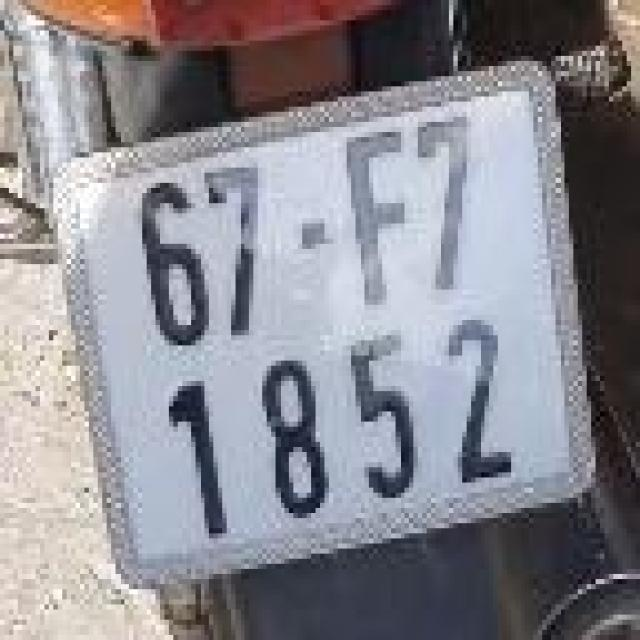1: (156, 371, 236, 543)
2: (442, 315, 522, 488)
5: (344, 330, 424, 508)
6: (131, 172, 211, 350)
7: (413, 109, 480, 297), (207, 160, 269, 343)
8: (251, 356, 331, 523)
F: (334, 120, 414, 302)
